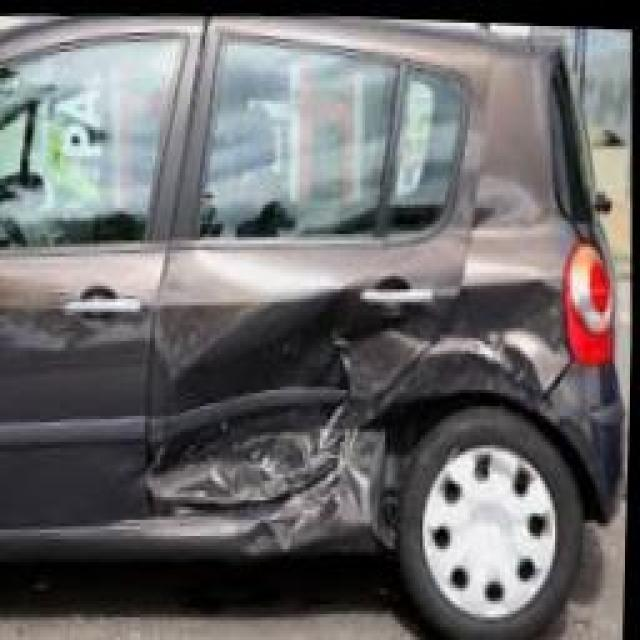Bumper: (546, 358, 631, 519)
Door: (143, 231, 470, 552)
Fender: (393, 213, 576, 410)
